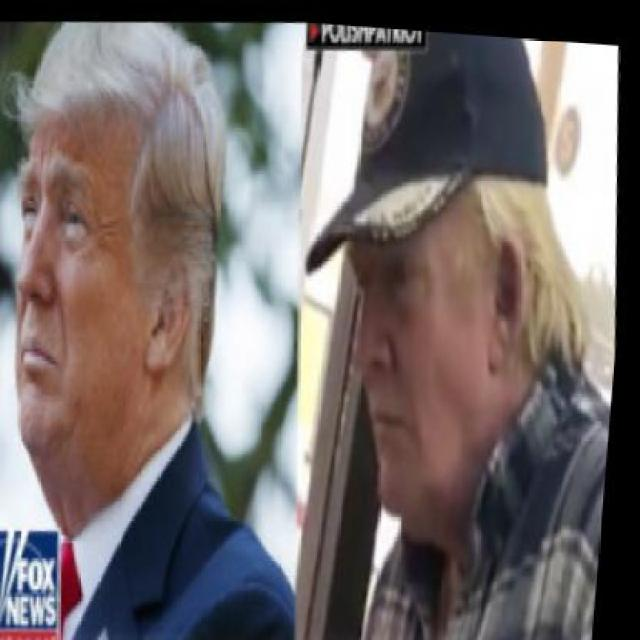hat: (292, 18, 566, 290)
